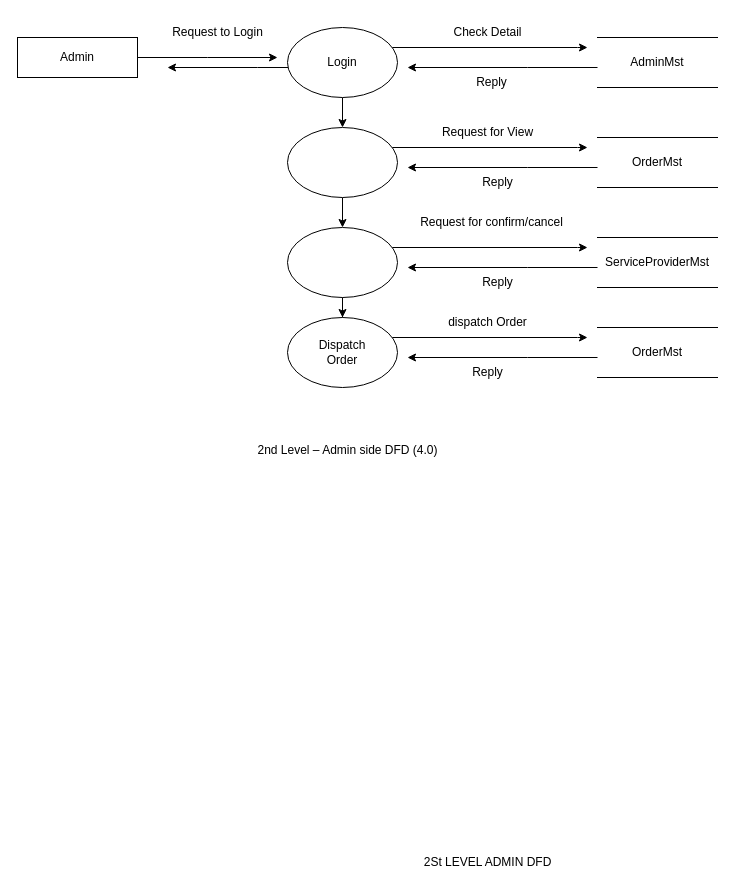
The diagram is 735 pixels wide and 894 high, and some of its shapes have lost their labels. The shapes that lost their labels are listed below. From the top down, each one's centre as x and y in pixels, then its label:
At pixel 342 162: "View Order".
At pixel 342 262: "Confirm/Cancel Order".
